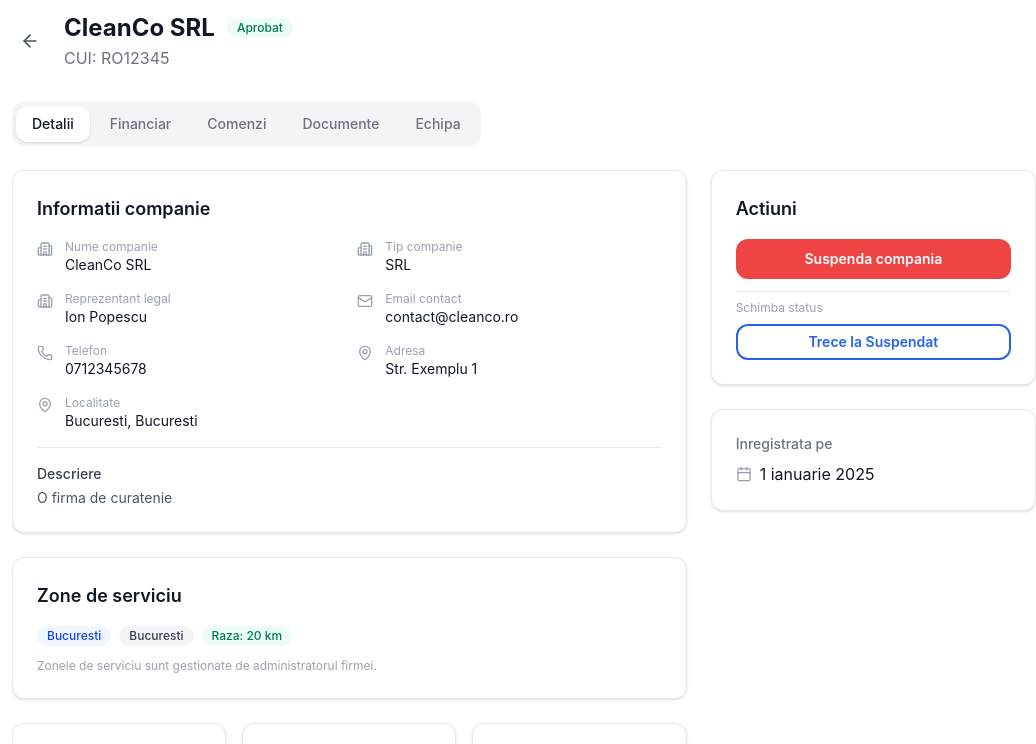
CompanyDetailPage - Documente tab › shows "Echipa si documente" section
Note: Cleaners are shown on the "Echipa" tab, not "Documente"
Click the button "Echipa". click: (438, 124)
box: [399, 106, 477, 142]
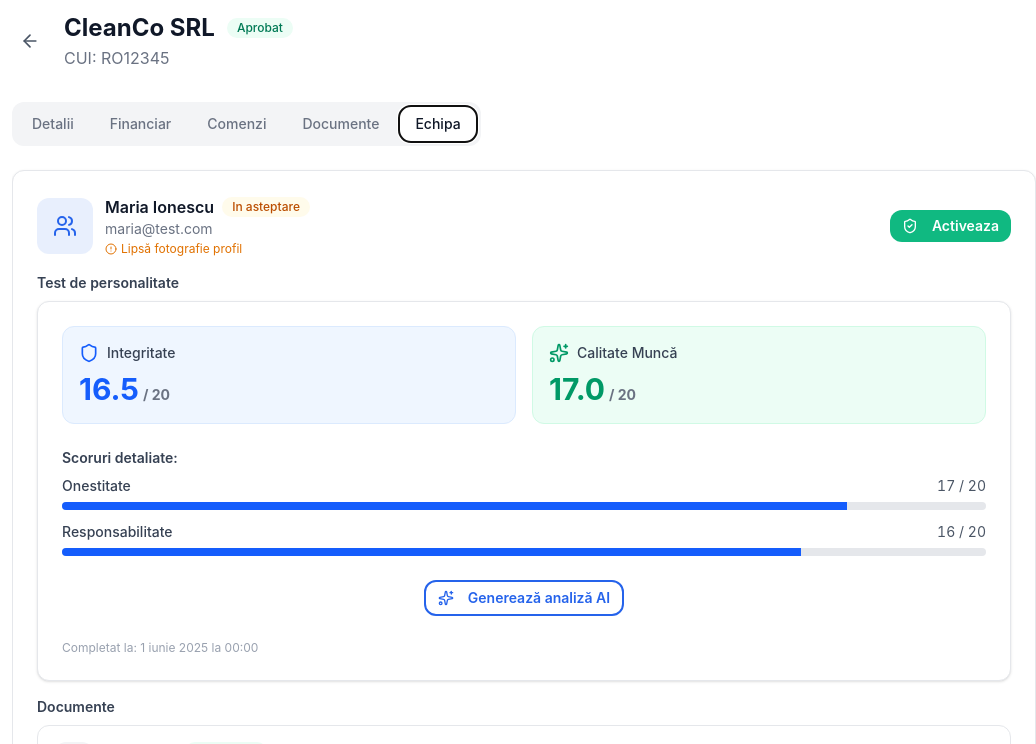
Expected: the heading "Maria Ionescu" is shown, [105, 195, 214, 219]
